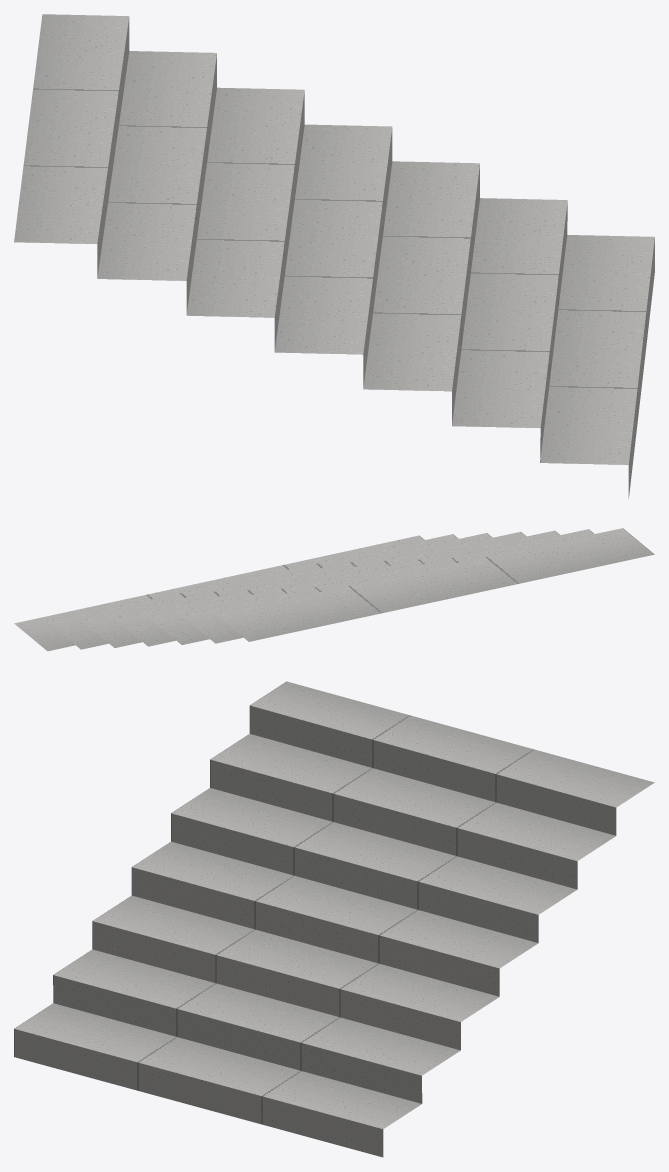
File: kd_stage_1364a3_13_5.glb
The picture shows the model from 3 angles, top to bottom: view 1: azimuth 30°, elevation 25°; view 2: azimuth 150°, elevation 25°; view 3: azimuth 270°, elevation 25°; orthographic projection. The views are drawn at different scales.
Parts seen in each view (by area): view 1: kd_stage_1364a3_13_5; view 2: kd_stage_1364a3_13_5; view 3: kd_stage_1364a3_13_5.
Part boxes in pixels (x1,y1,x2,y2): kd_stage_1364a3_13_5: (14,14,654,498); kd_stage_1364a3_13_5: (14,528,654,651); kd_stage_1364a3_13_5: (14,681,654,1157).
Bounding box in the file's own units: 6.23 × 2.07 × 6.07.
1 material, 1 textured.
